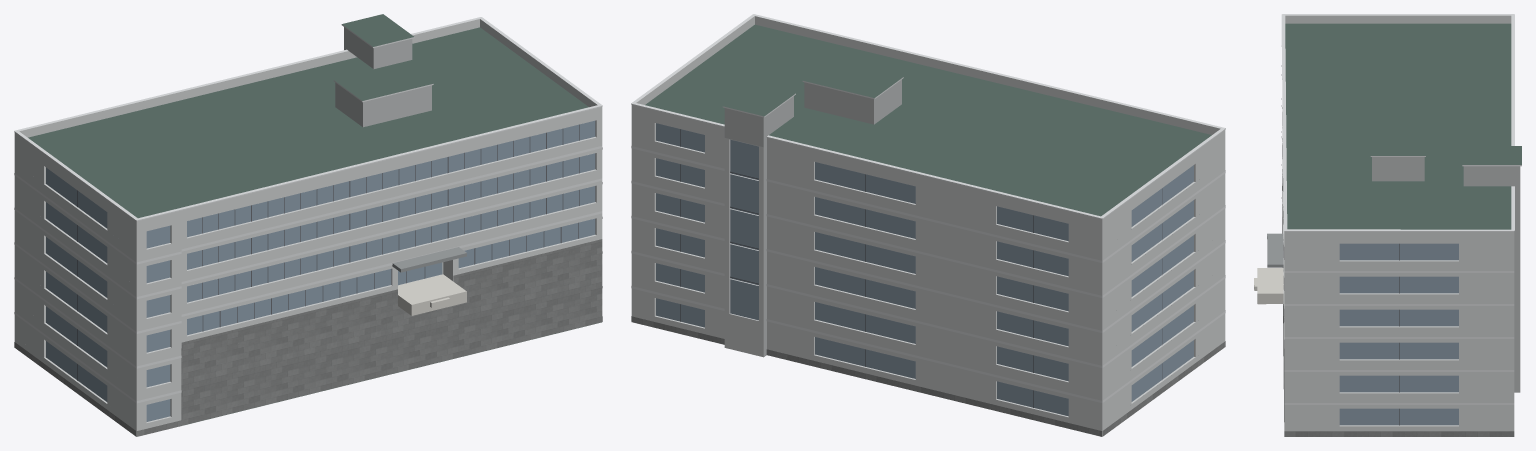
3 views of the same model, side by side, from view 1: azimuth 30°, elevation 25°; view 2: azimuth 150°, elevation 25°; view 3: azimuth 270°, elevation 25° (orthographic). The views are drawn at different scales.
Parts seen in each view (by area): view 1: b133__wall, b133__roof, b133__glass, b133__base, b133__trim, b133__parapet, b133__wall2, b133__frame, b133__entranceStair, b133__canopy; view 2: b133__wall, b133__roof, b133__glass, b133__trim, b133__parapet, b133__wall2, b133__base, b133__frame; view 3: b133__roof, b133__wall, b133__glass, b133__trim, b133__wall2, b133__parapet, b133__base, b133__entranceStair, b133__canopy.
Boxes of the visible parts, box(x1,y1,x2,y2) form: b133__wall: box(14, 114, 602, 436); b133__roof: box(28, 14, 601, 436); b133__glass: box(46, 120, 595, 421); b133__base: box(14, 239, 602, 436); b133__trim: box(14, 17, 602, 403); b133__parapet: box(14, 19, 602, 228); b133__wall2: box(335, 27, 431, 127); b133__frame: box(77, 124, 579, 380); b133__entranceStair: box(398, 274, 466, 315); b133__canopy: box(392, 247, 466, 272); b133__wall: box(631, 112, 1225, 436); b133__roof: box(645, 24, 1211, 216); b133__glass: box(656, 123, 1193, 416); b133__trim: box(631, 14, 1225, 402); b133__parapet: box(631, 16, 1225, 226); b133__wall2: box(724, 79, 901, 356); b133__base: box(631, 316, 1225, 436); b133__frame: box(680, 129, 1162, 407); b133__roof: box(1285, 23, 1521, 229); b133__wall: box(1282, 113, 1514, 431); b133__glass: box(1339, 243, 1458, 425); b133__trim: box(1281, 14, 1521, 404); b133__wall2: box(1372, 157, 1520, 392); b133__parapet: box(1284, 15, 1514, 238); b133__base: box(1282, 183, 1514, 436); b133__entranceStair: box(1254, 268, 1283, 304); b133__canopy: box(1267, 233, 1283, 267).
Size of the model in its own units: 50.77 by 24.89 by 26.47.
11 materials, 1 textured.
